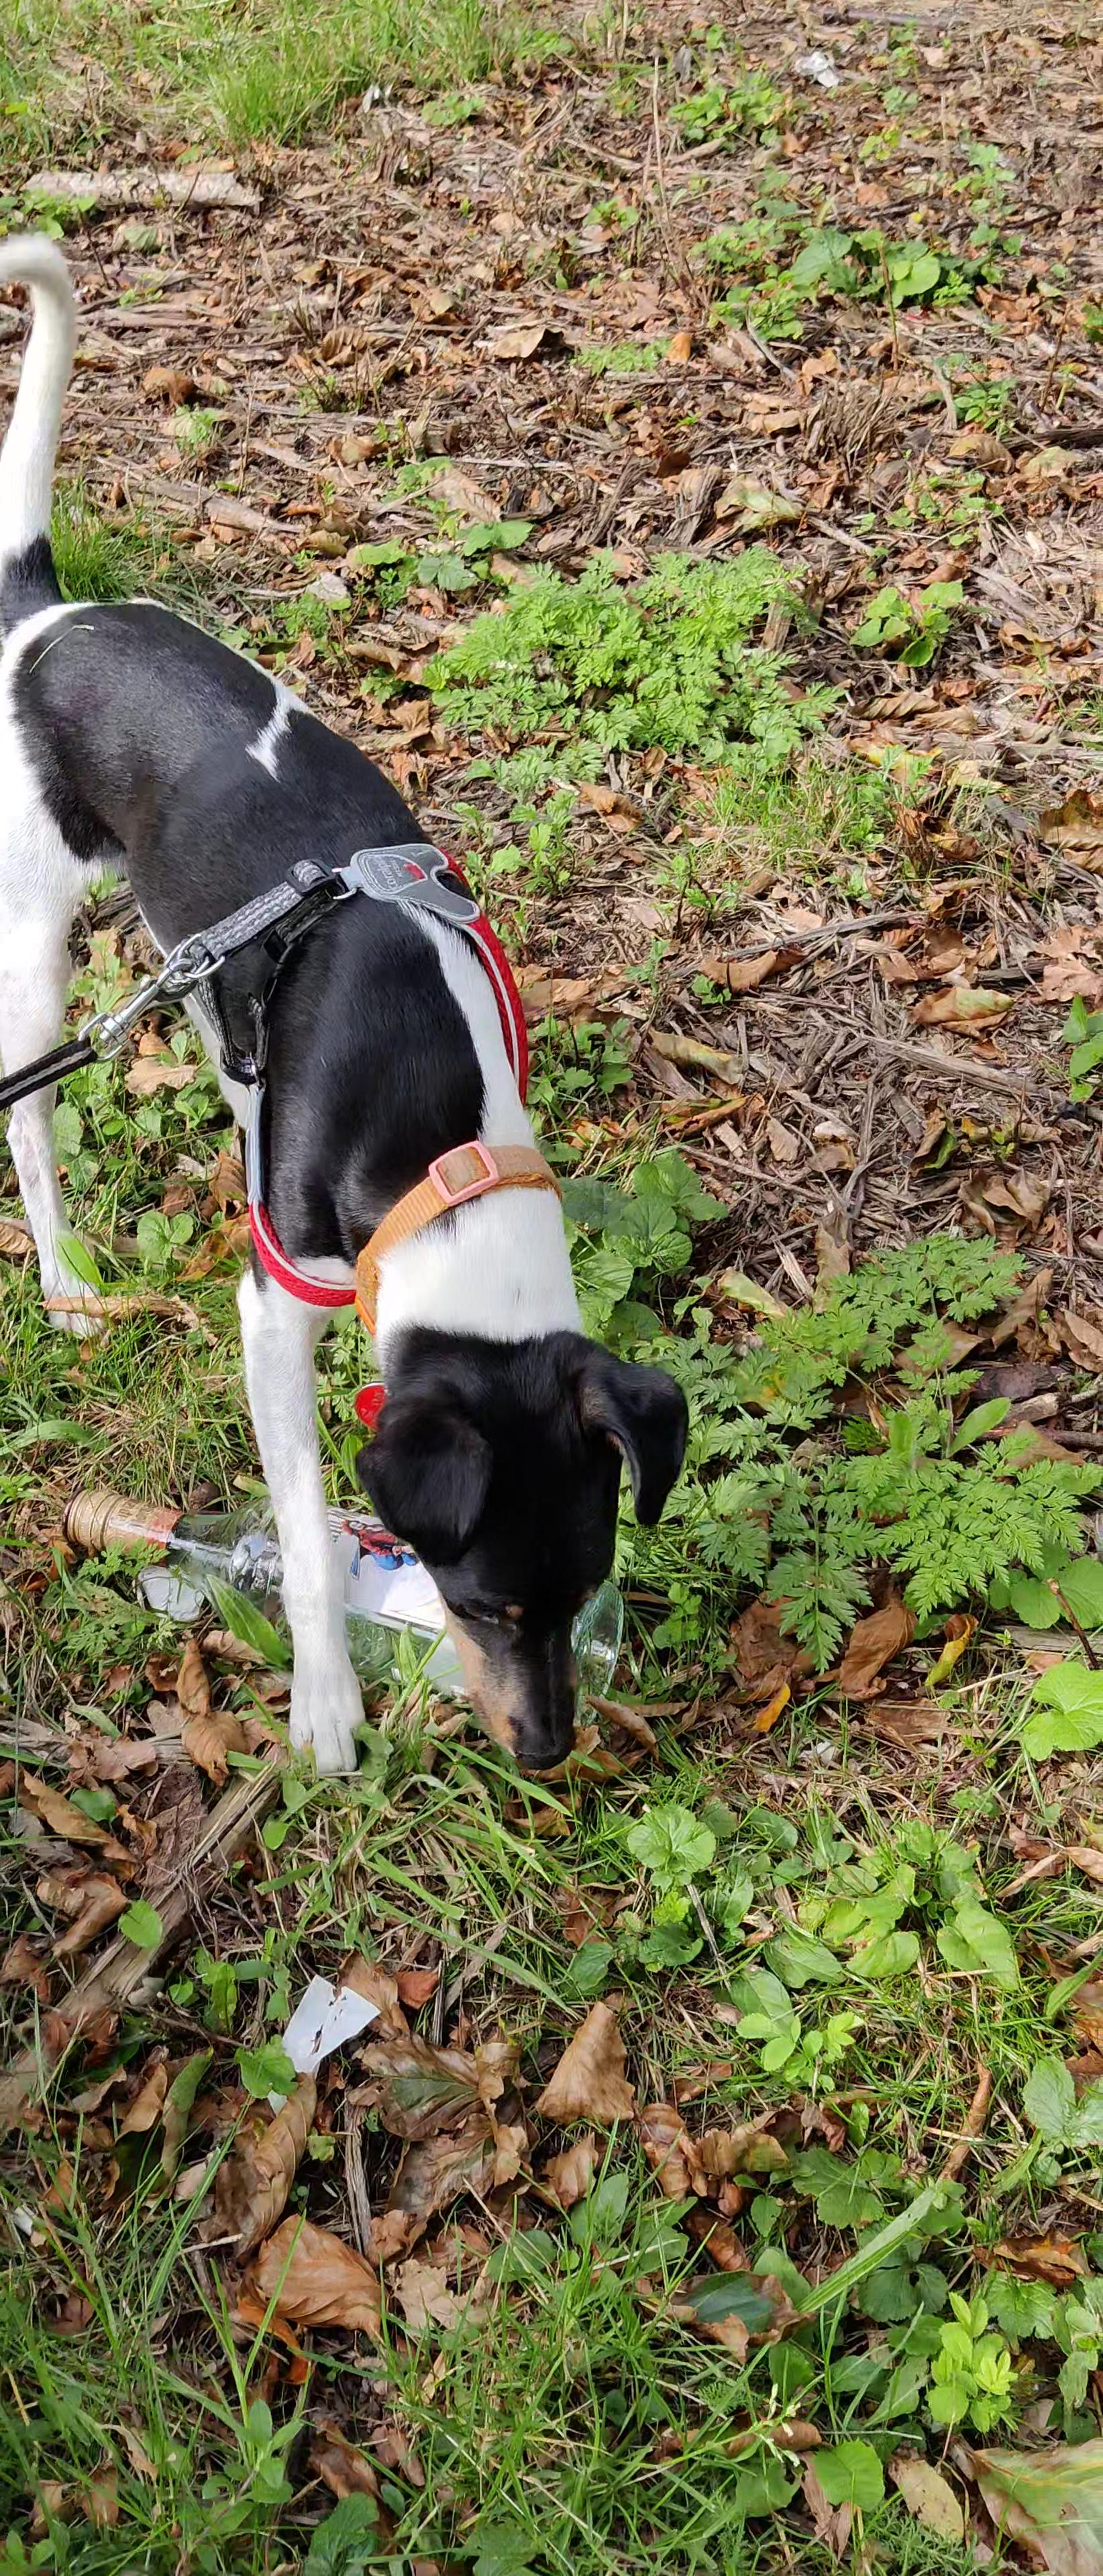Dog: (0, 209, 710, 1804)
